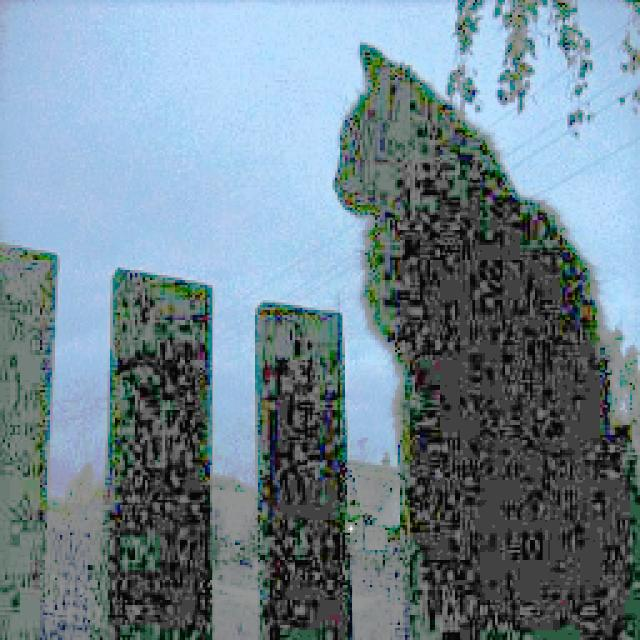cat: (332, 38, 640, 640)
